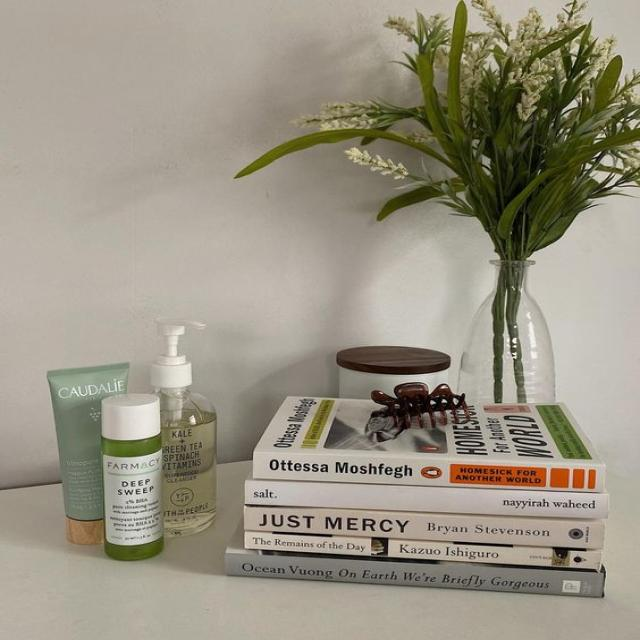book: (225, 545, 604, 597), (244, 507, 604, 548), (254, 452, 607, 492), (246, 480, 608, 519), (244, 531, 600, 569)
